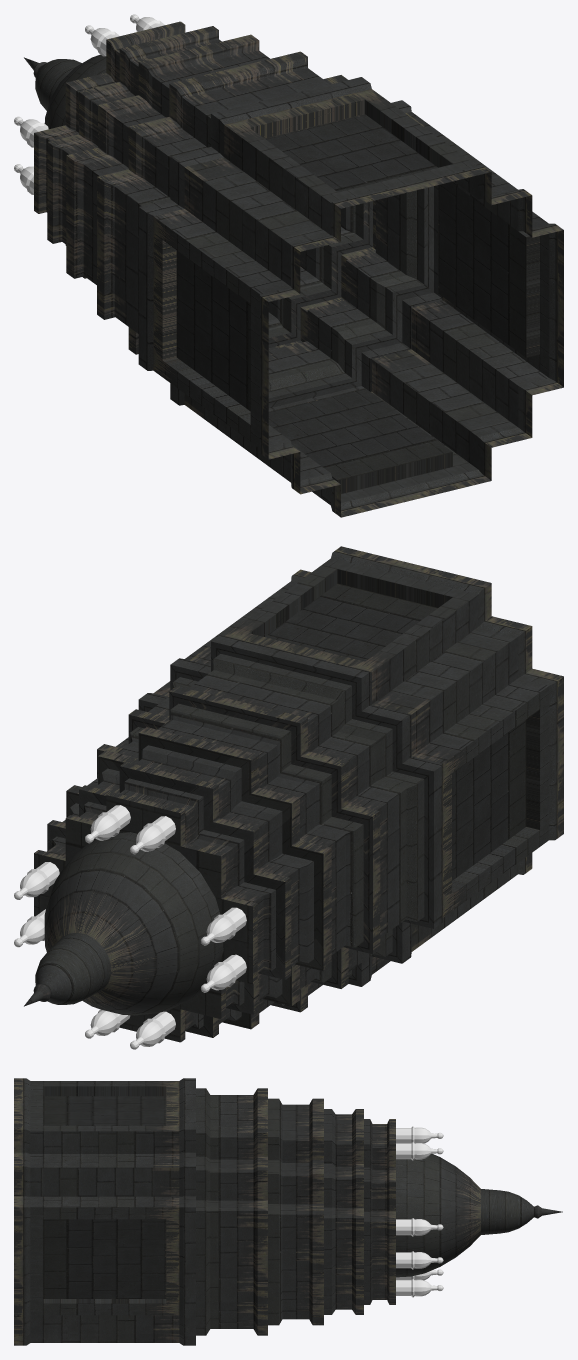
File: Candi_01.fbx
3 renders of one model, top to bottom at view 1: azimuth 30°, elevation 25°; view 2: azimuth 150°, elevation 25°; view 3: azimuth 270°, elevation 25°, orthographic. The views are drawn at different scales.
Parts seen in each view (by area): view 1: Candi_01; view 2: Candi_01; view 3: Candi_01.
Part boxes in pixels (bbox=[...]): Candi_01: bbox=[14, 14, 563, 517]; Candi_01: bbox=[14, 546, 563, 1049]; Candi_01: bbox=[14, 1078, 562, 1345].
Size of the model in its own units: 255 by 255 by 587.
Materials: 2 (1 with a texture image).
